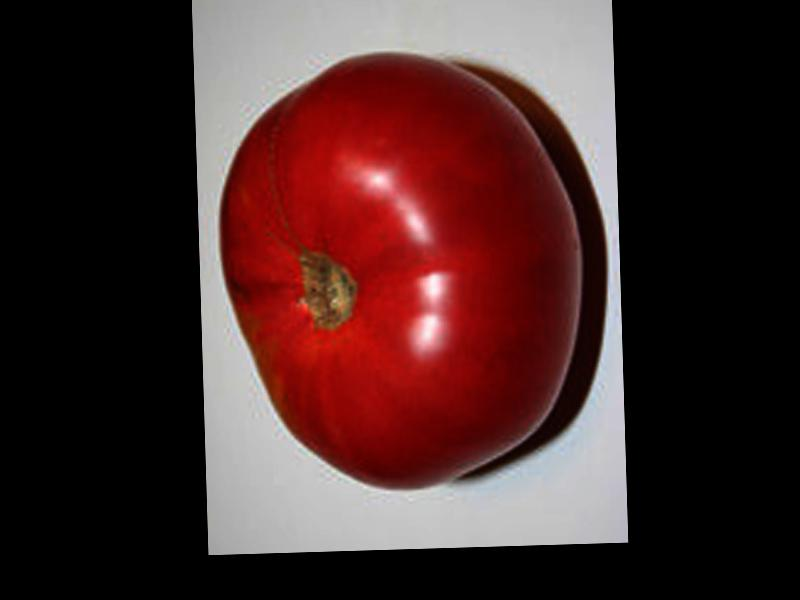Tomato: (210, 46, 579, 497)
